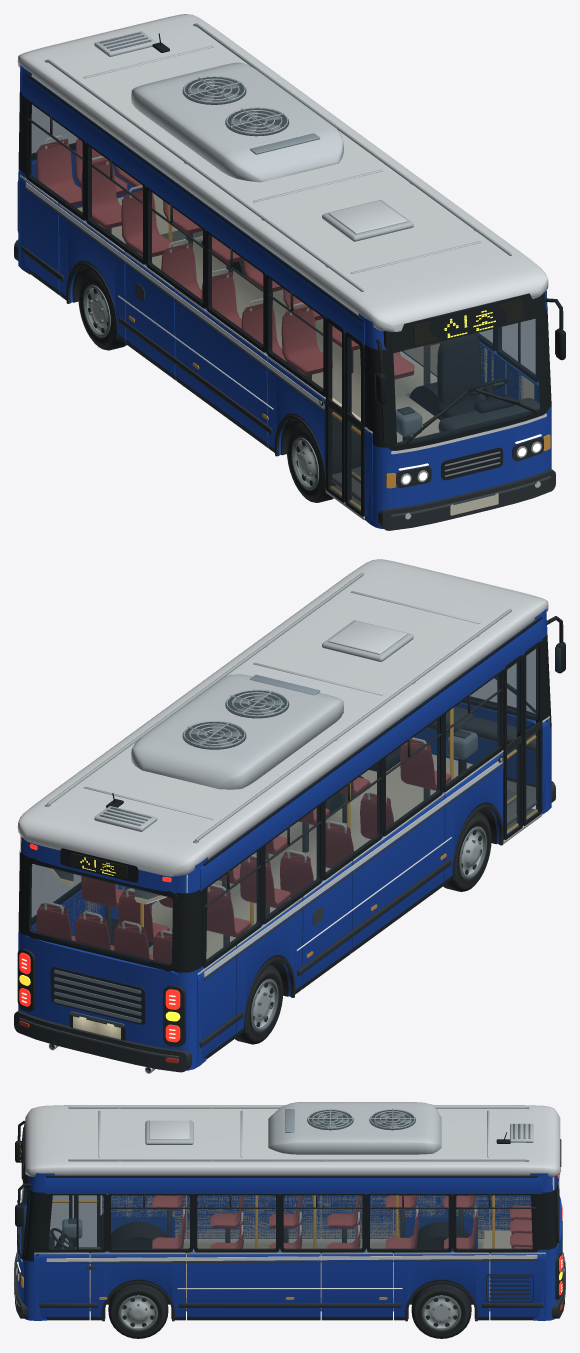
File: minibus_real.glb
3 renders of one model, top to bottom at view 1: azimuth 30°, elevation 25°; view 2: azimuth 150°, elevation 25°; view 3: azimuth 270°, elevation 25°, orthographic. The views are drawn at different scales.
Visible parts, largest first — view 1: body, cabinPanes, salonLights, wheelRR, wheelFR; view 2: body, cabinPanes, salonLights, wheelFR, wheelRR, redLensCaps; view 3: body, cabinPanes, salonLights, wheelFL, wheelRL.
Boxes of the visible parts, <box> form: body: <box>14,14,565,530</box>; cabinPanes: <box>30,104,539,508</box>; salonLights: <box>20,69,534,442</box>; wheelRR: <box>78,270,126,350</box>; wheelFR: <box>287,423,333,502</box>; body: <box>14,559,565,1073</box>; cabinPanes: <box>30,648,538,963</box>; salonLights: <box>20,708,472,1039</box>; wheelFR: <box>443,812,491,891</box>; wheelRR: <box>234,964,283,1044</box>; redLensCaps: <box>19,843,180,1042</box>; body: <box>14,1102,565,1321</box>; cabinPanes: <box>20,1180,559,1252</box>; salonLights: <box>89,1177,564,1297</box>; wheelFL: <box>108,1284,168,1338</box>; wheelRL: <box>411,1284,471,1338</box>.
Size of the model in its own units: 2.02 by 2.73 by 7.1.
